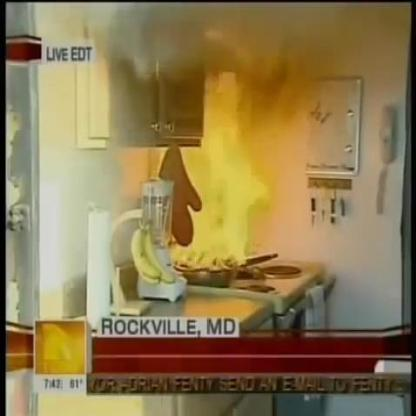fire: (160, 68, 273, 268)
